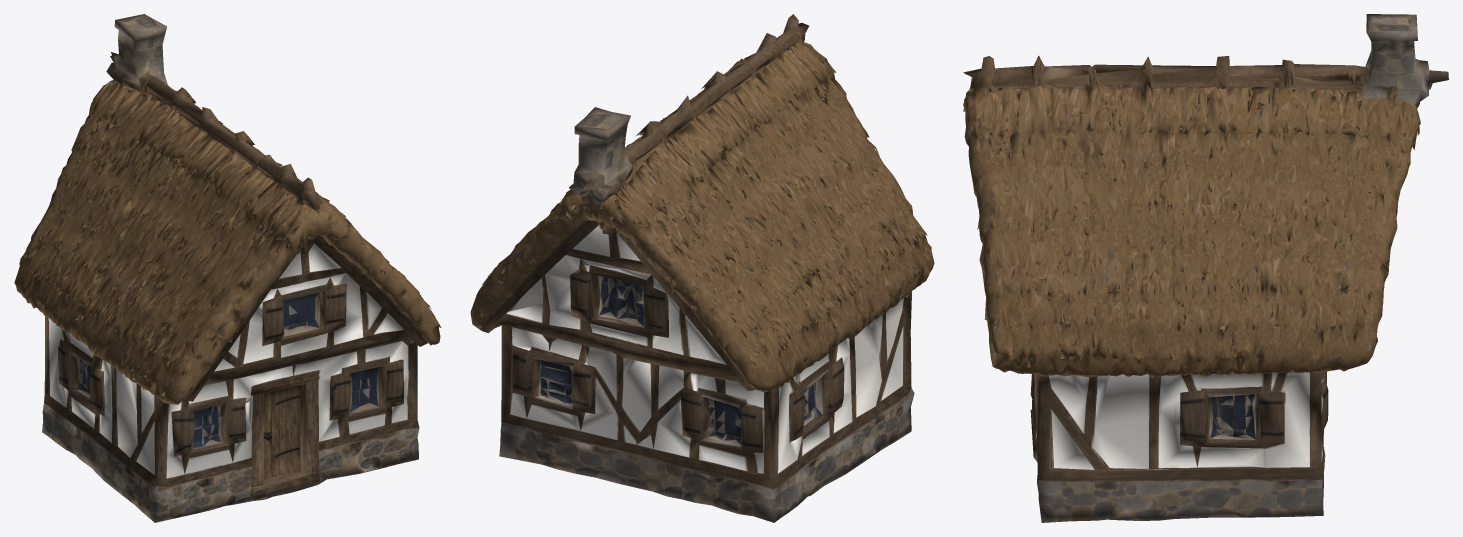
File: dom_mur_pruski.glb
The picture shows the model from 3 angles, left to right: view 1: azimuth 30°, elevation 25°; view 2: azimuth 150°, elevation 25°; view 3: azimuth 270°, elevation 25°; orthographic projection. The views are drawn at different scales.
Visible parts, largest first — view 1: Mesh_0; view 2: Mesh_0; view 3: Mesh_0.
Part boxes in pixels (x1,y1,x2,y2): Mesh_0: [14, 14, 441, 522]; Mesh_0: [470, 14, 934, 522]; Mesh_0: [963, 14, 1448, 522].
Bounding box in the file's own units: 1.48 × 1.82 × 1.88.
1 material, 1 textured.
